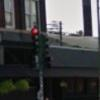chimneys: (83, 0, 94, 42)
traffic lights: (31, 26, 40, 56)
